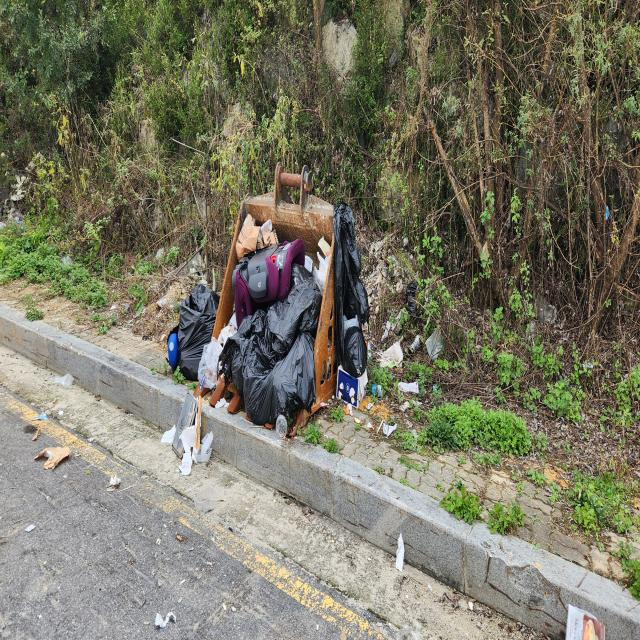General Waste: (194, 166, 384, 468), (218, 305, 324, 430), (331, 198, 376, 382), (163, 268, 218, 382), (161, 398, 218, 490)
